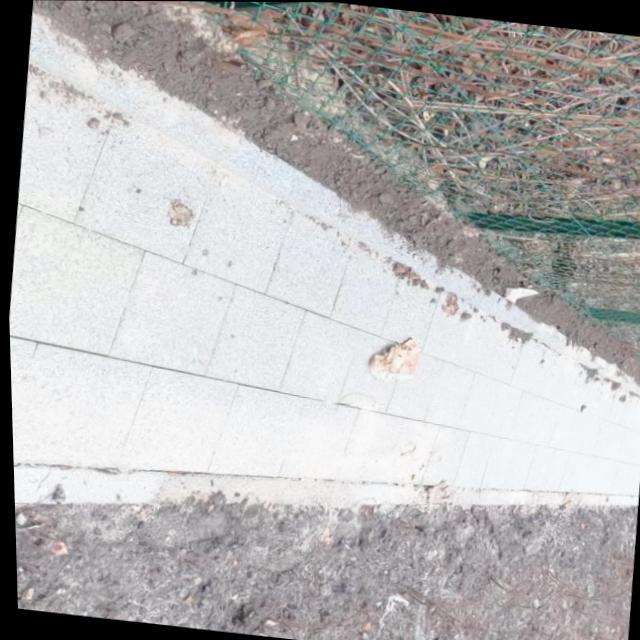Paper: (498, 284, 538, 307)
